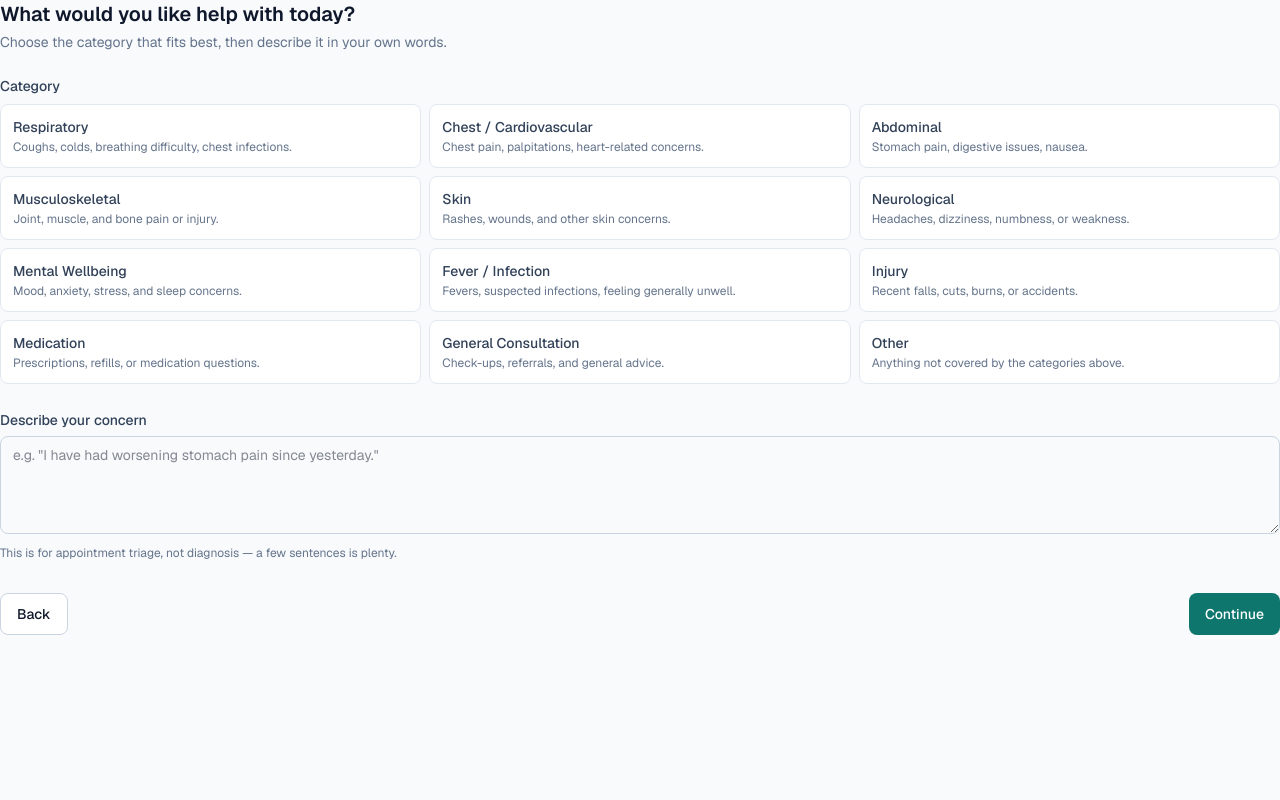
it: validation prompt › flags both the category group and the description when neither is given
Click the button "Continue" at point(1234, 614), box [1189, 593, 1279, 635]
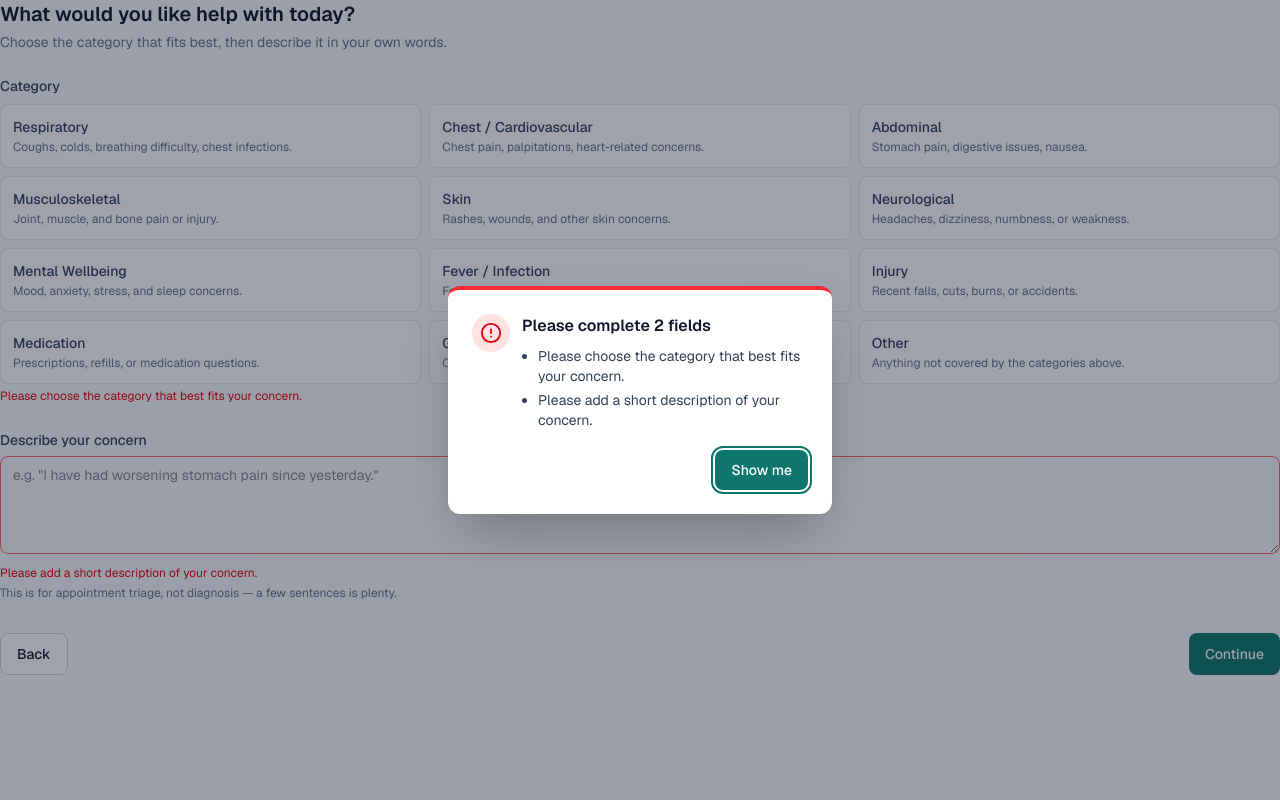
expect the dialog shows "Please complete 2 fields": met, box [522, 315, 711, 336]
